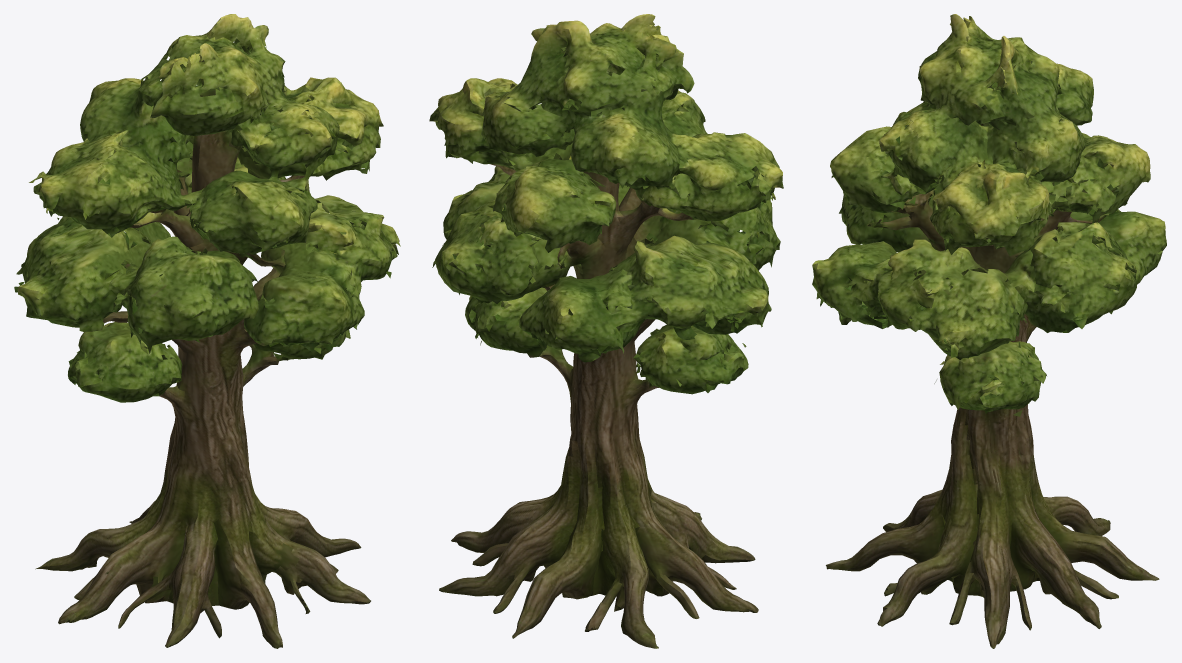
Rendered from meadows_giant_ironwood.glb.
3 renders of one model, left to right at view 1: azimuth 30°, elevation 25°; view 2: azimuth 150°, elevation 25°; view 3: azimuth 270°, elevation 25°, orthographic.
Parts seen in each view (by area): view 1: Mesh_0; view 2: Mesh_0; view 3: Mesh_0.
Boxes of the visible parts, bbox=[...] form: Mesh_0: bbox=[14, 14, 400, 648]; Mesh_0: bbox=[429, 14, 783, 648]; Mesh_0: bbox=[812, 14, 1166, 648].
Size of the model in its own units: 1.21 by 1.88 by 1.1.
Materials: 1 (1 with a texture image).
